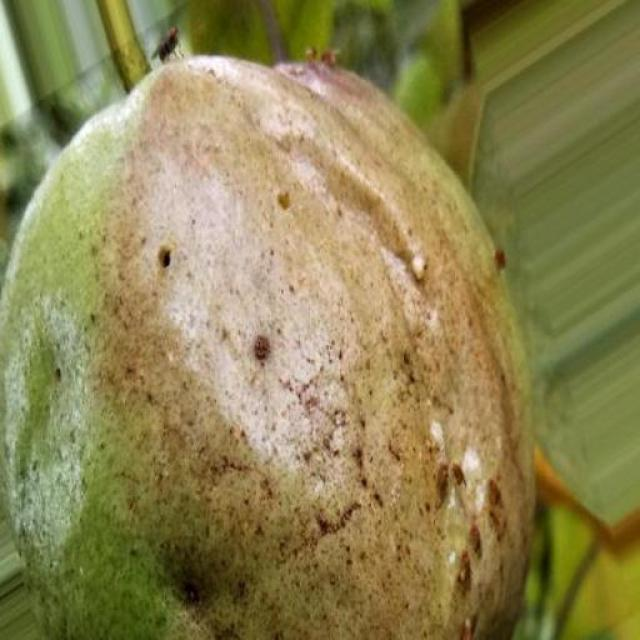Styler_Root: (0, 56, 534, 640)
